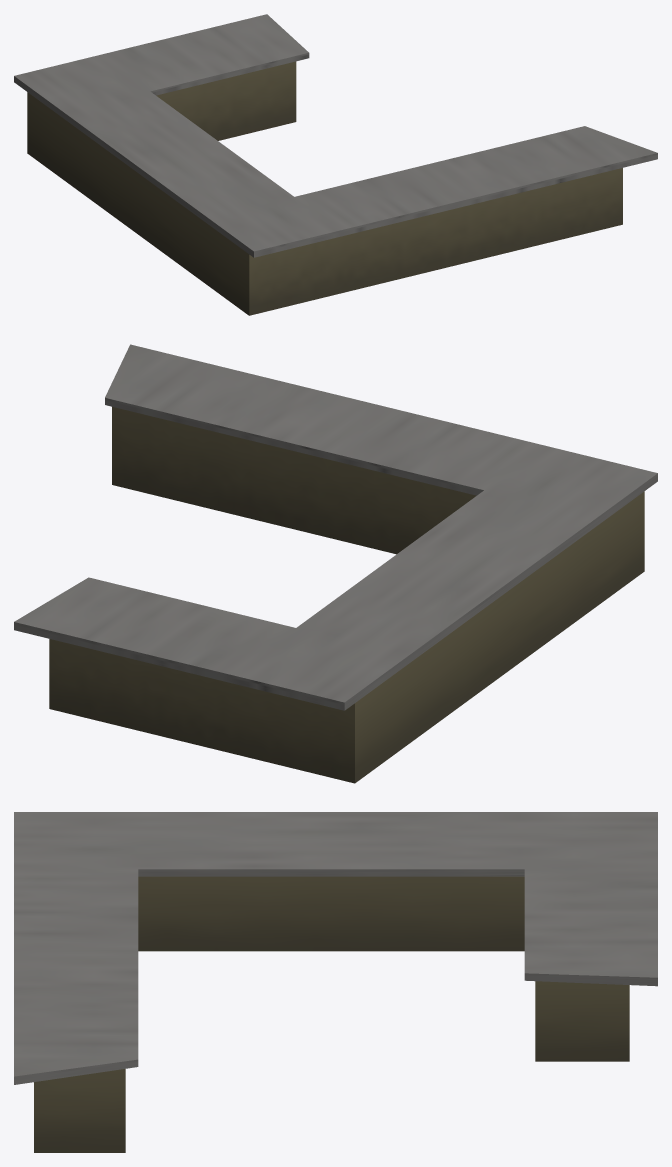
File: CounterPerimeter.glb
3 views of the same model, one above another, from view 1: azimuth 30°, elevation 25°; view 2: azimuth 150°, elevation 25°; view 3: azimuth 270°, elevation 25° (orthographic). The views are drawn at different scales.
Parts seen in each view (by area): view 1: CounterPtop_Baked, CounterPbottom_Baked; view 2: CounterPtop_Baked, CounterPbottom_Baked; view 3: CounterPtop_Baked, CounterPbottom_Baked.
Part boxes in pixels (bbox=[...]): CounterPtop_Baked: bbox=[14, 14, 657, 257]; CounterPbottom_Baked: bbox=[27, 61, 622, 315]; CounterPtop_Baked: bbox=[14, 344, 657, 710]; CounterPbottom_Baked: bbox=[49, 406, 644, 783]; CounterPtop_Baked: bbox=[14, 812, 657, 1084]; CounterPbottom_Baked: bbox=[34, 876, 629, 1152].
Size of the model in its own units: 21.76 by 3.62 by 22.39.
Materials: 2 (2 with a texture image).
